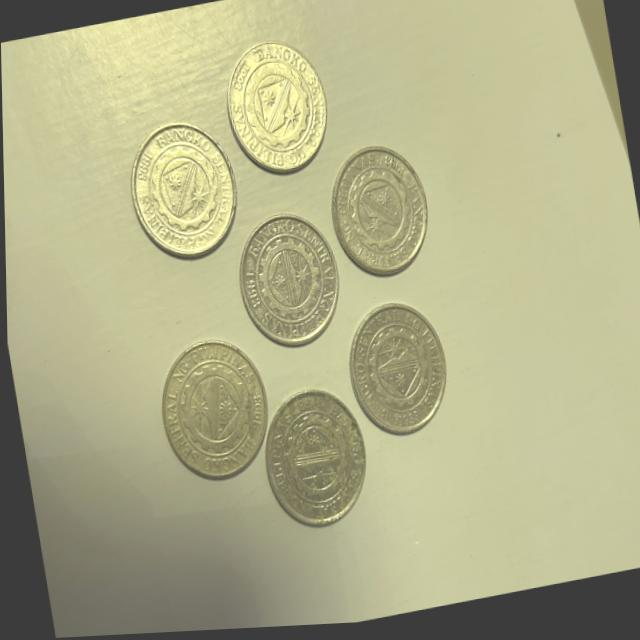1_Old_Back: (169, 350, 257, 470), (141, 130, 231, 247), (235, 50, 324, 163), (339, 161, 425, 266), (246, 228, 330, 335), (273, 408, 354, 514), (353, 320, 436, 421)
